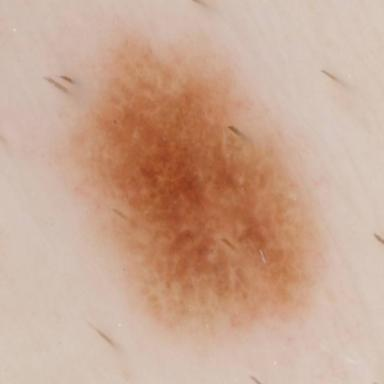nevus: (78, 39, 322, 324)
